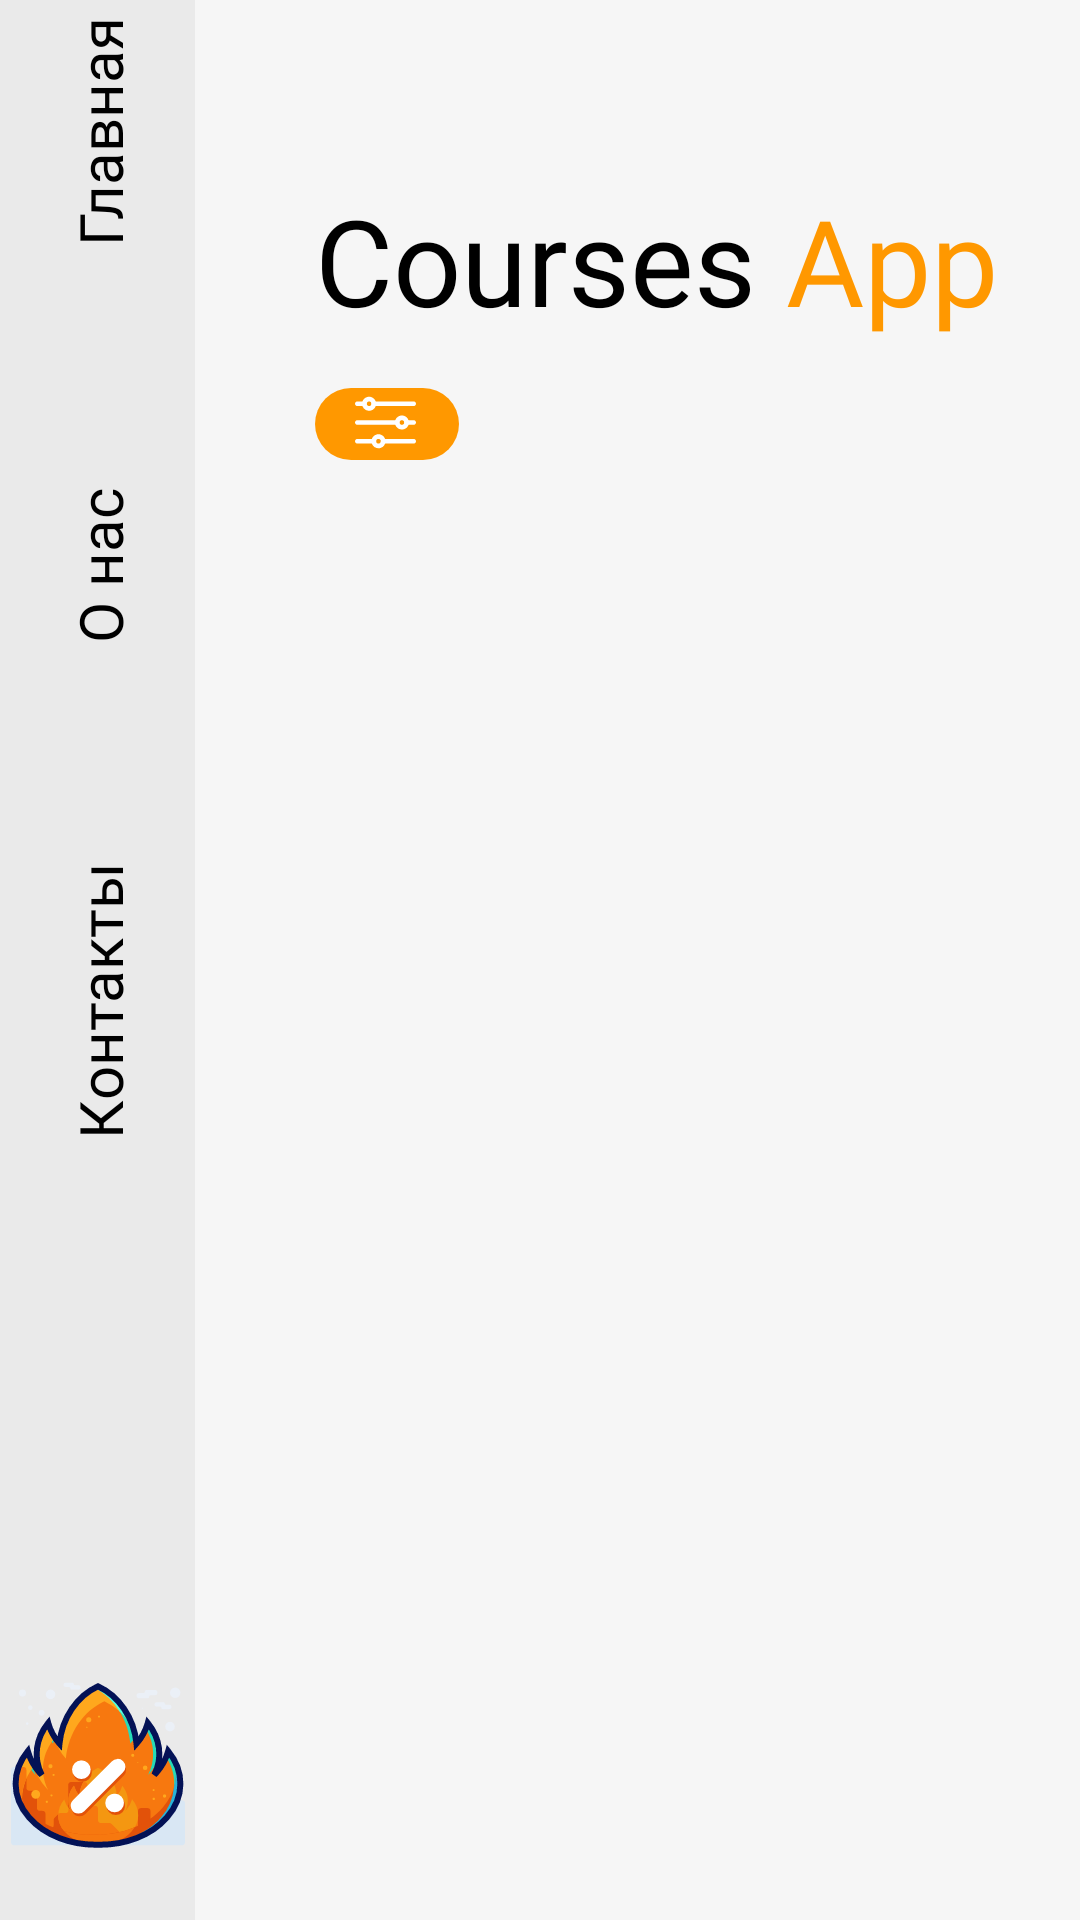

Named icons in this screenshot (1080 x 1920) and their centers, point (x, y):
filter: point (387, 424)
hot deal: point (98, 1765)
